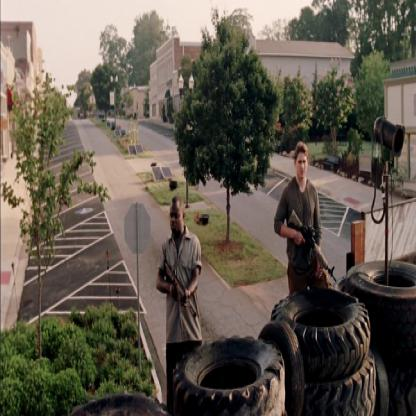Guns: (284, 206, 337, 283), (162, 259, 196, 317)
